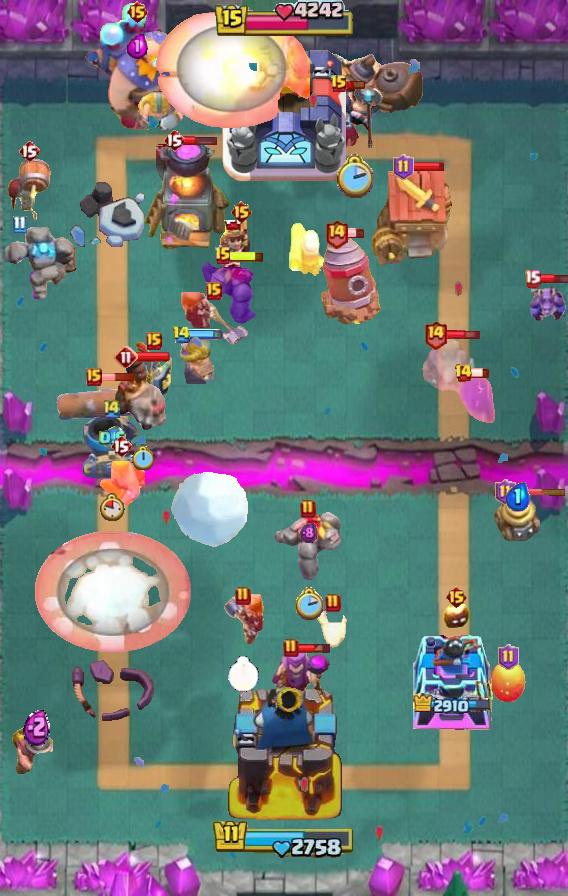bar: (513, 487, 567, 496), (229, 250, 265, 263), (446, 328, 481, 341), (135, 351, 171, 363), (297, 642, 332, 654), (188, 329, 223, 340), (183, 135, 218, 146), (539, 272, 568, 285), (411, 161, 445, 172), (100, 372, 135, 382), (470, 367, 490, 379), (346, 79, 366, 90), (346, 228, 365, 239)
bar-level: (423, 319, 448, 350), (324, 218, 349, 249), (114, 345, 138, 369), (445, 585, 468, 609), (230, 200, 253, 224), (126, 0, 149, 24), (498, 644, 519, 670), (495, 479, 516, 505), (393, 154, 414, 180), (110, 434, 132, 458), (18, 139, 40, 163), (163, 128, 185, 152), (102, 398, 122, 419), (454, 363, 473, 383), (172, 325, 191, 344), (214, 246, 232, 266), (330, 74, 348, 94), (524, 269, 541, 288), (283, 638, 299, 658), (325, 593, 341, 613), (235, 586, 251, 606), (300, 499, 316, 519), (86, 368, 102, 386), (146, 332, 162, 350), (206, 282, 222, 300), (12, 215, 27, 234)
barbarian: (97, 461, 145, 505)
clock: (335, 154, 373, 198), (228, 656, 259, 692), (294, 587, 323, 620), (100, 493, 125, 521), (132, 446, 153, 470)
electro-spirit: (459, 375, 499, 423)
elite-barbarian: (137, 89, 185, 132), (178, 338, 214, 385)
elixir: (23, 708, 50, 746), (505, 482, 530, 511), (99, 426, 126, 450), (127, 33, 148, 59), (300, 522, 317, 544)
fire-spirit: (442, 601, 470, 629)
firecracker: (287, 220, 329, 278)
golemite: (0, 227, 76, 305), (272, 510, 344, 582), (199, 259, 269, 325)
guard: (134, 340, 174, 404)
king-tower: (222, 31, 346, 181), (223, 680, 345, 826)
king-tower-bar: (212, 818, 356, 860), (213, 0, 355, 40)
lava-pup: (316, 611, 350, 649)
little-prince: (216, 220, 267, 276)
miner: (10, 722, 62, 778)
minion: (527, 281, 567, 325)
mortar: (82, 415, 142, 479)
mother-witch: (269, 646, 331, 700)
night-witch: (324, 83, 384, 153)
phoenix-egg: (488, 660, 528, 704)
queen-tower: (412, 623, 494, 731)
ram-rider: (112, 355, 172, 431)
royal-ghost: (420, 334, 478, 402)
the-log: (55, 380, 157, 424)
tower-bar: (413, 693, 493, 717)
valkyrie: (179, 290, 249, 346), (220, 594, 266, 648)
wall-breaker: (5, 158, 53, 224)
zappy: (494, 492, 540, 544)
